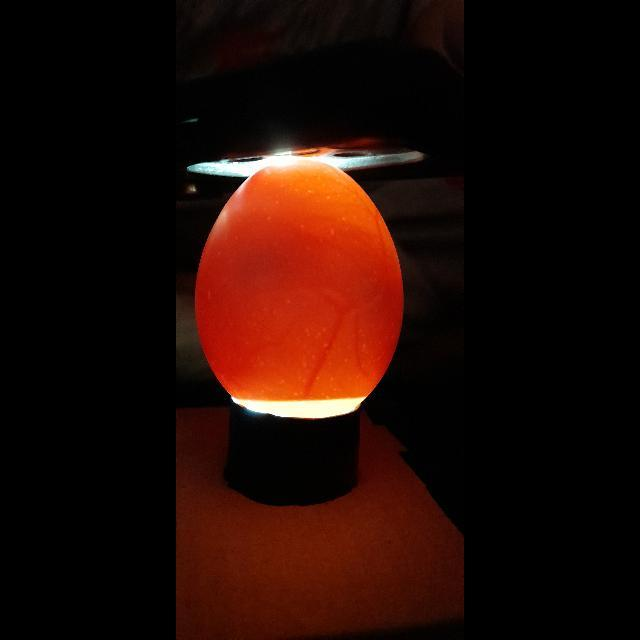Fertile: (193, 165, 411, 419)
